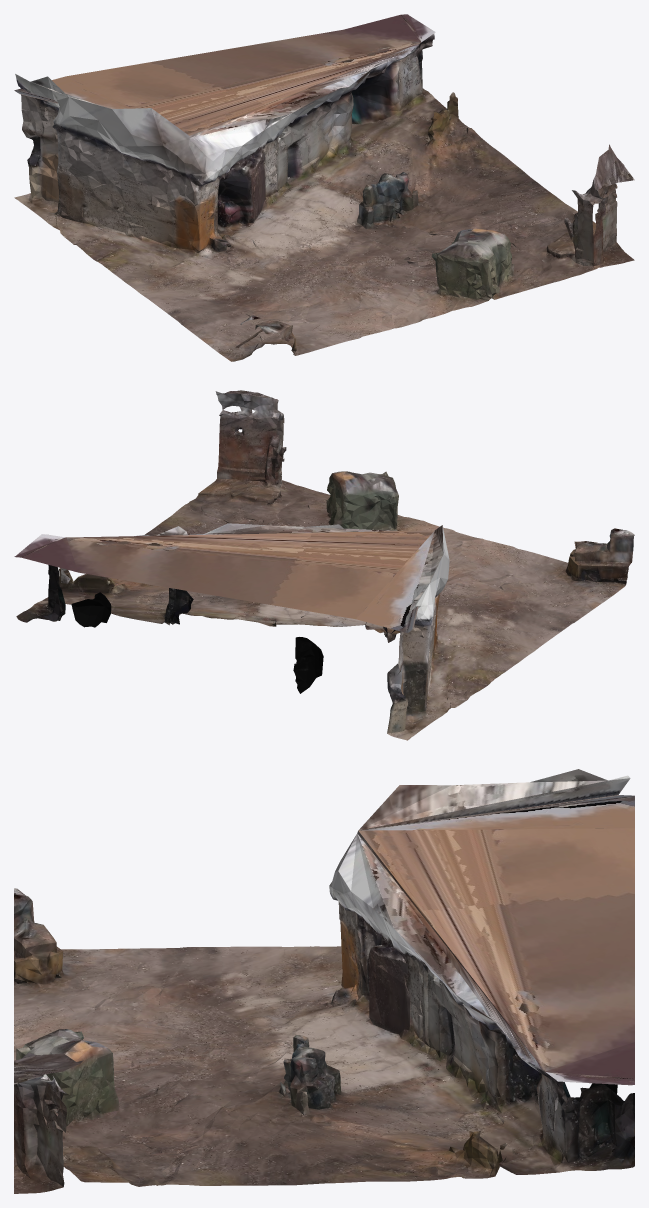
The picture shows the model from 3 angles, top to bottom: view 1: azimuth 30°, elevation 25°; view 2: azimuth 150°, elevation 25°; view 3: azimuth 270°, elevation 25°; orthographic projection. The views are drawn at different scales.
Bounding box in the file's own units: 20.89 × 7.39 × 20.89.
4 materials, 4 textured.
